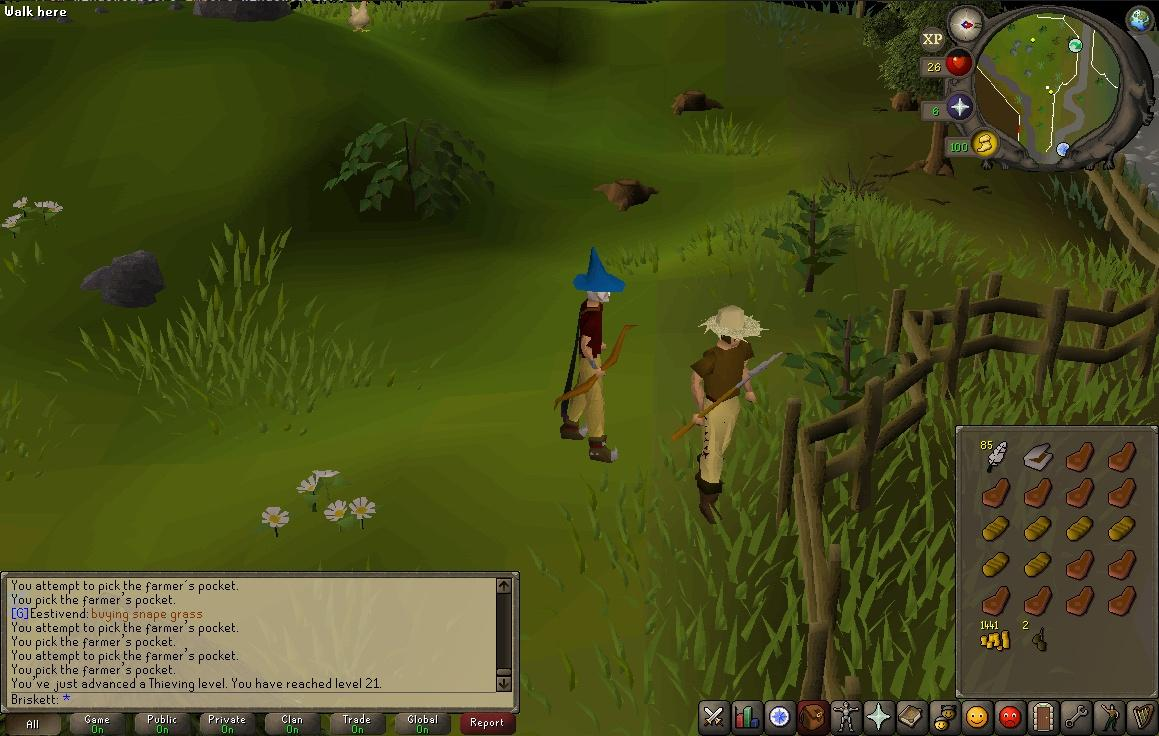Farmer: (689, 304, 763, 525)
